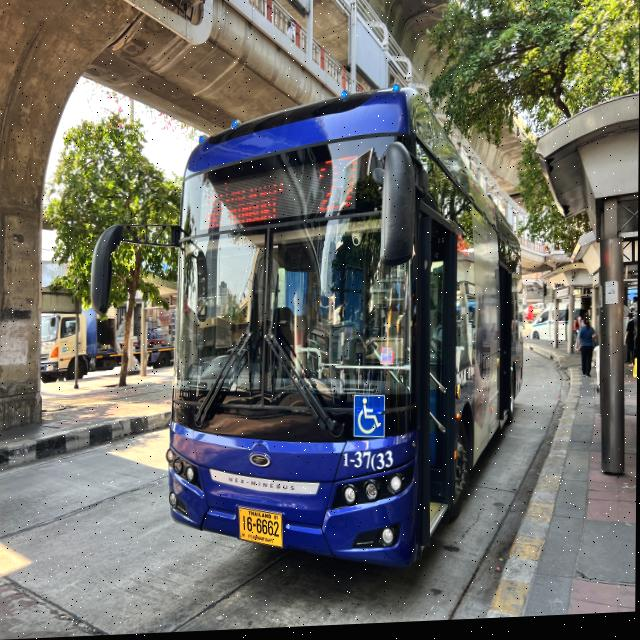Bus Line Number: (311, 153, 366, 222)
Bus Side Number: (339, 448, 398, 479)
Destination Sign: (201, 170, 287, 230)
TSB-Bus: (166, 92, 524, 575)
